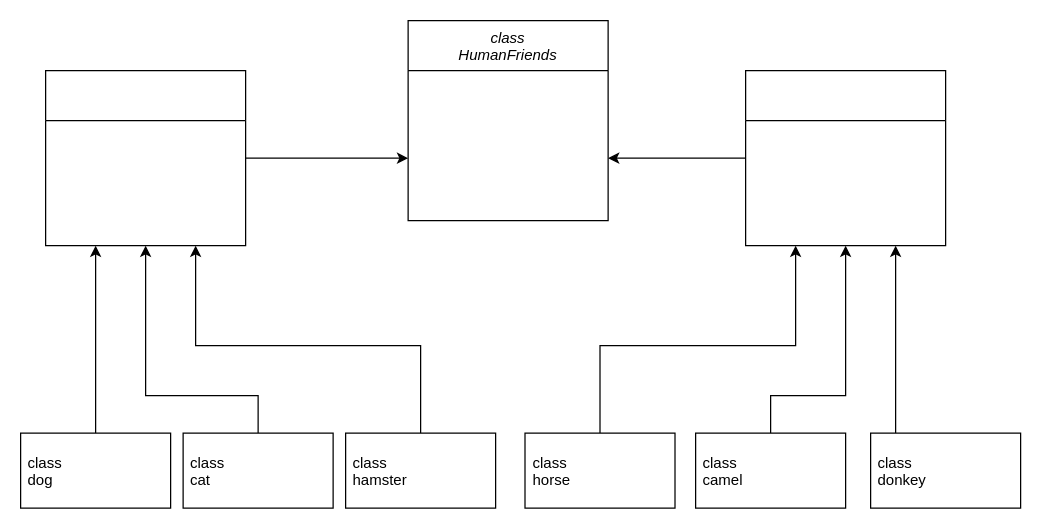
This 1041x529 diagram has some shape labels left out. Here are the shapes that lost their labels. From the top down, the centre of each, then its label:
At point 145,157: "class Pets".
At point 845,157: "class Pack_animals".
